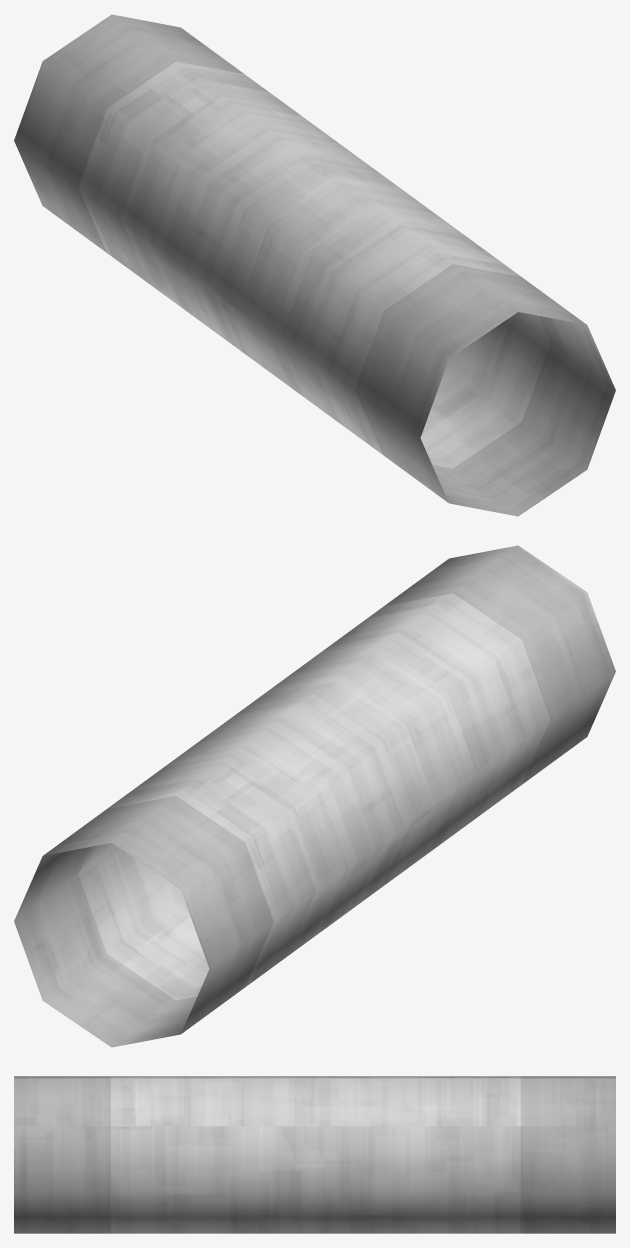
The model's file is ZiplineHandleCrable_Mod.FBX.
3 renders of one model, top to bottom at view 1: azimuth 30°, elevation 25°; view 2: azimuth 150°, elevation 25°; view 3: azimuth 270°, elevation 25°, orthographic. The views are drawn at different scales.
Visible parts, largest first — view 1: ZiplineHandleCrable; view 2: ZiplineHandleCrable; view 3: ZiplineHandleCrable.
Boxes of the visible parts, x1,y1,x2,y2 form: ZiplineHandleCrable: [14, 14, 615, 516]; ZiplineHandleCrable: [14, 545, 615, 1047]; ZiplineHandleCrable: [14, 1076, 615, 1233].
Size of the model in its own units: 1.97 by 1.97 by 7.09.
Materials: 1 (1 with a texture image).
